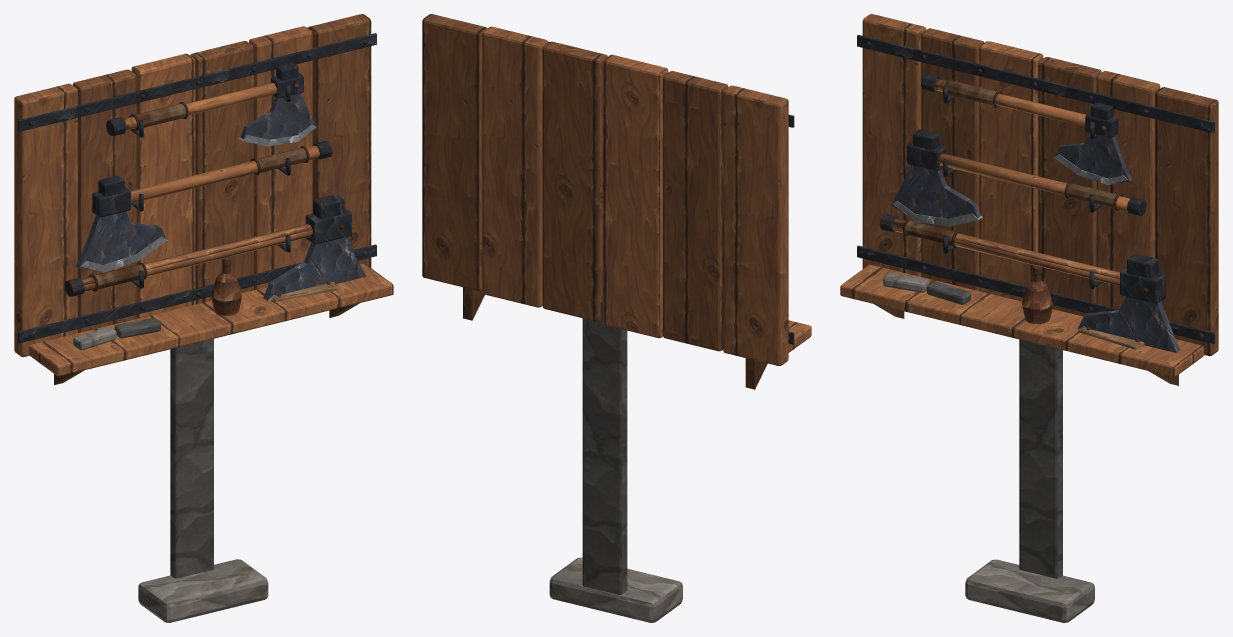
Rendered from hs_axe_rack.glb.
The picture shows the model from 3 angles, left to right: view 1: azimuth 30°, elevation 25°; view 2: azimuth 150°, elevation 25°; view 3: azimuth 330°, elevation 25°; orthographic projection. The views are drawn at different scales.
Visible parts, largest first — view 1: model; view 2: model; view 3: model.
Boxes of the visible parts, box(x1,y1,x2,y2) form: model: box(14, 14, 393, 622); model: box(422, 14, 811, 622); model: box(840, 14, 1218, 622).
Bounding box in the file's own units: 1.17 × 1.68 × 0.215.
13 materials, 13 textured.
